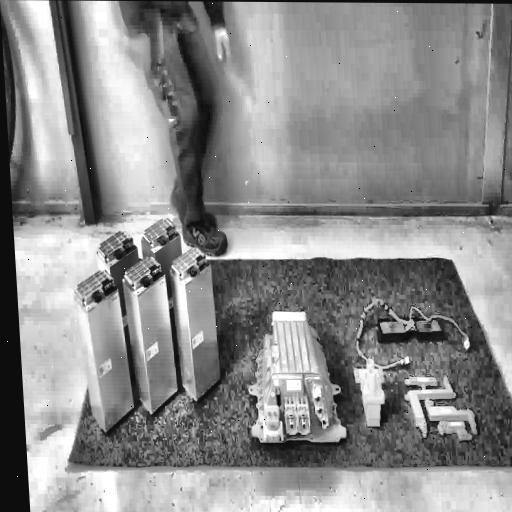battery_module: (73, 267, 135, 433), (122, 256, 178, 413), (170, 247, 221, 402), (94, 229, 138, 267), (140, 217, 179, 253)
bms_unit: (242, 307, 347, 451)
busbar: (404, 371, 478, 441)
connector: (353, 357, 387, 430)
high_volt_cable: (354, 287, 473, 373)
